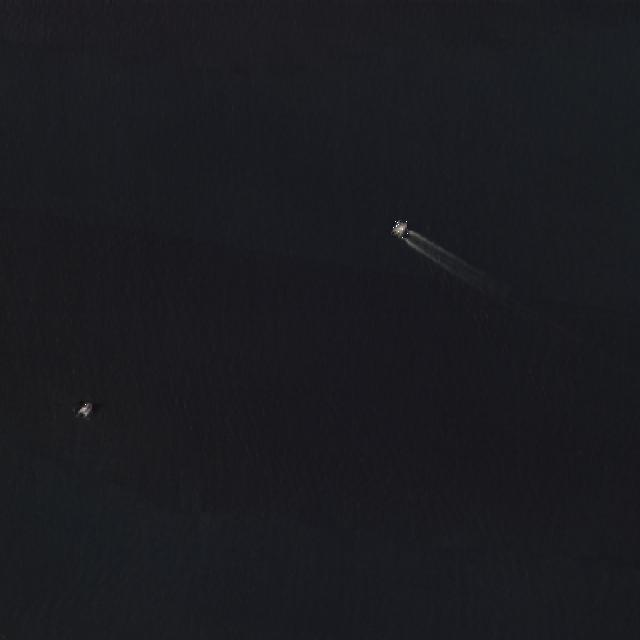boat: (389, 220, 408, 238), (75, 401, 93, 418)
